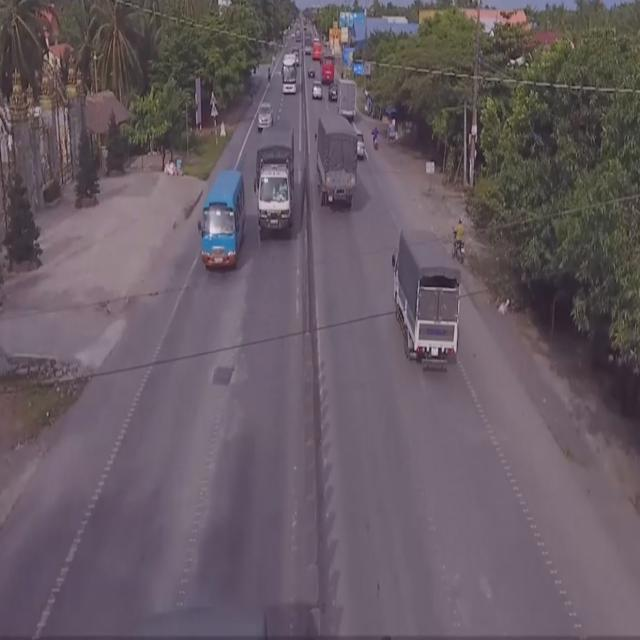bus: (200, 166, 247, 267), (282, 55, 298, 98)
car: (257, 100, 274, 132), (355, 130, 367, 160)
motorbike: (449, 216, 466, 270)
truck: (392, 231, 466, 378), (257, 121, 295, 241), (314, 117, 358, 213), (338, 80, 358, 122)
